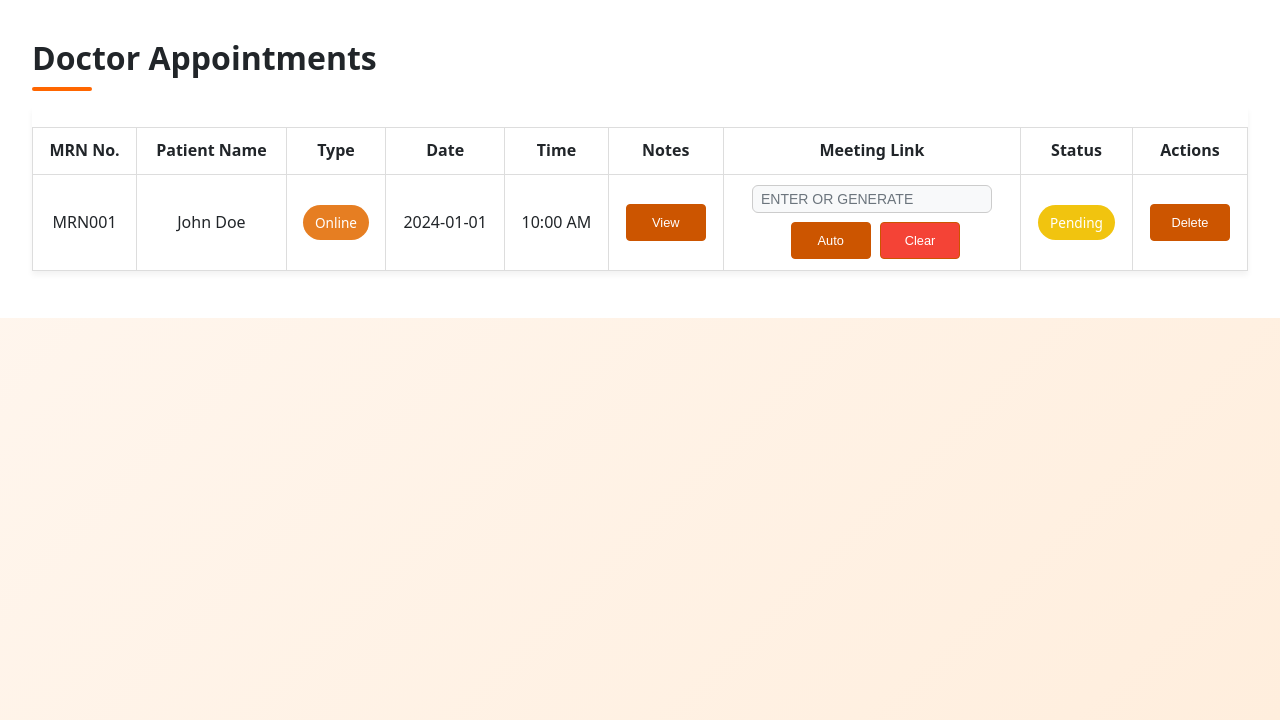
it: DoctorsAppointments Component › handles status toggle correctly
Check: the text "John Doe" is shown, box [136, 174, 286, 271]
Note: Simulate status toggle
Click the text "Pending": (1077, 223) [1038, 205, 1115, 240]
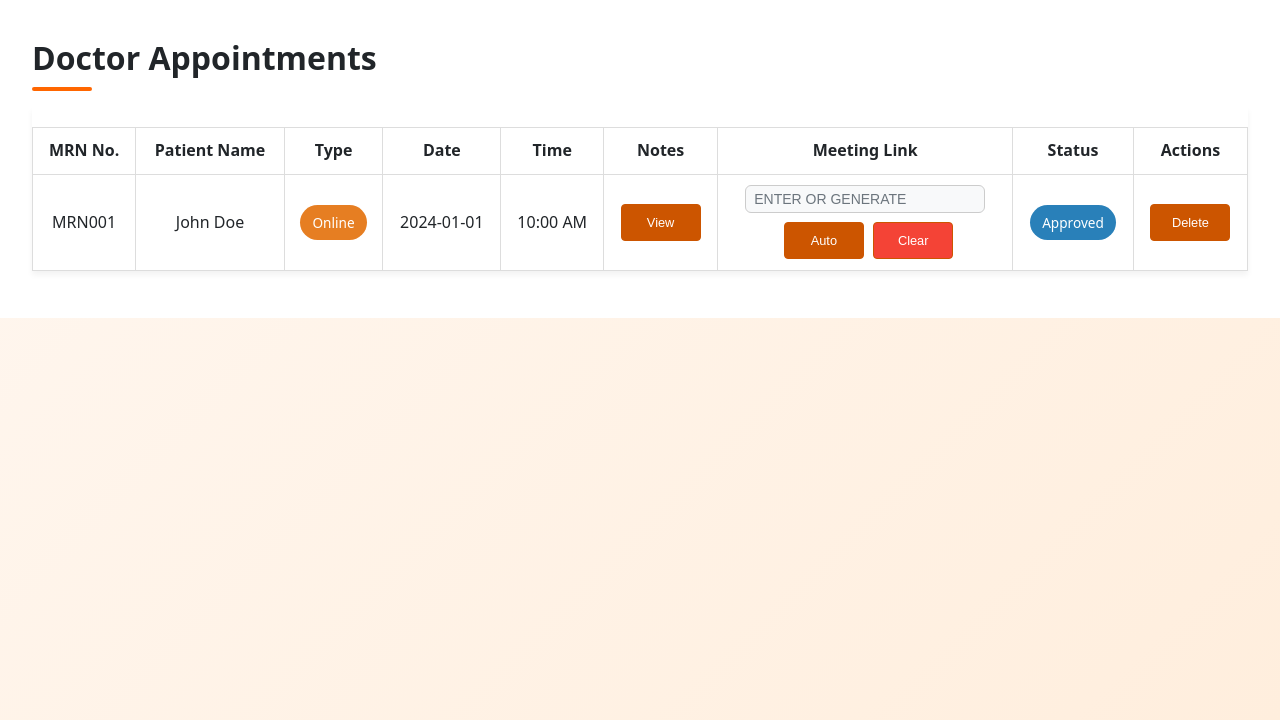
Check: the text "Approved" is shown, box [1030, 205, 1116, 240]
